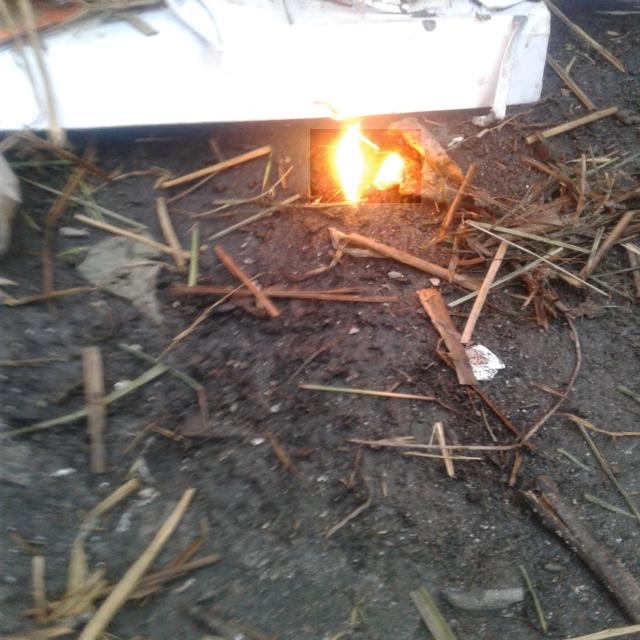Fire: (310, 129, 421, 203)
